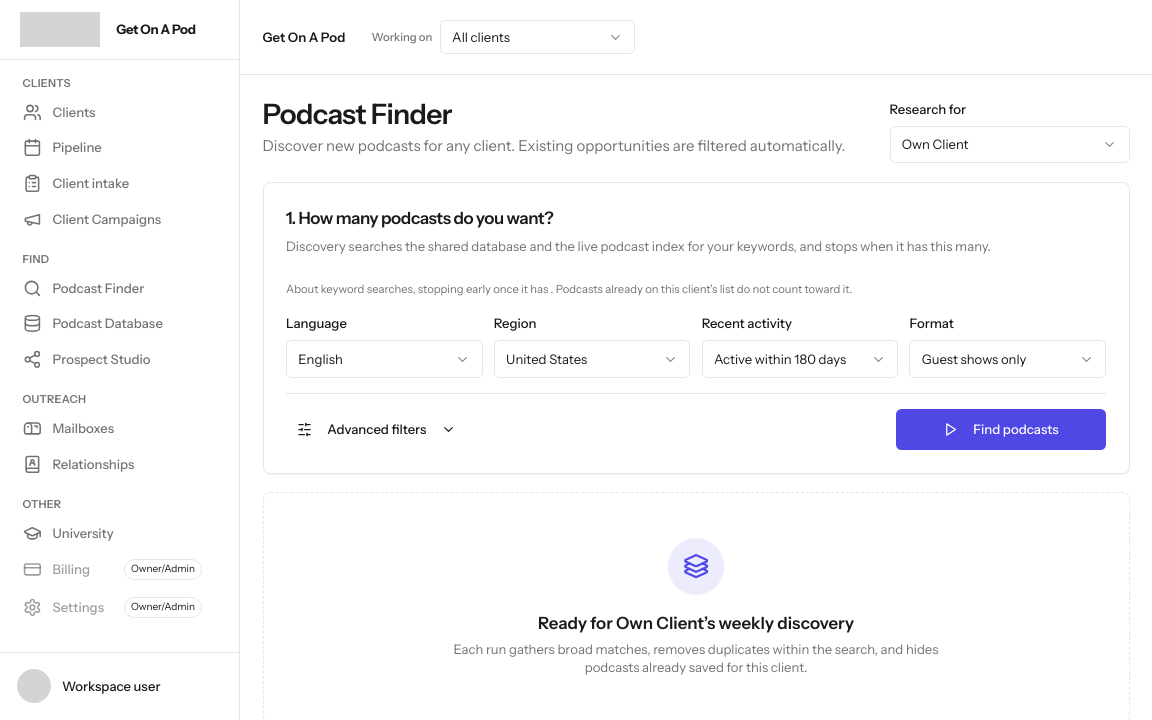
it: PodcastFinder › lets the user switch between every active client in the workspace
The width and height of the screenshot is (1152, 720).
Expected: the heading "Ready for Own Client’s weekly discovery" is shown, [538,610,854,636]
Click the dropdown named "Research for": {"x": 1010, "y": 144} [890,126,1130,163]
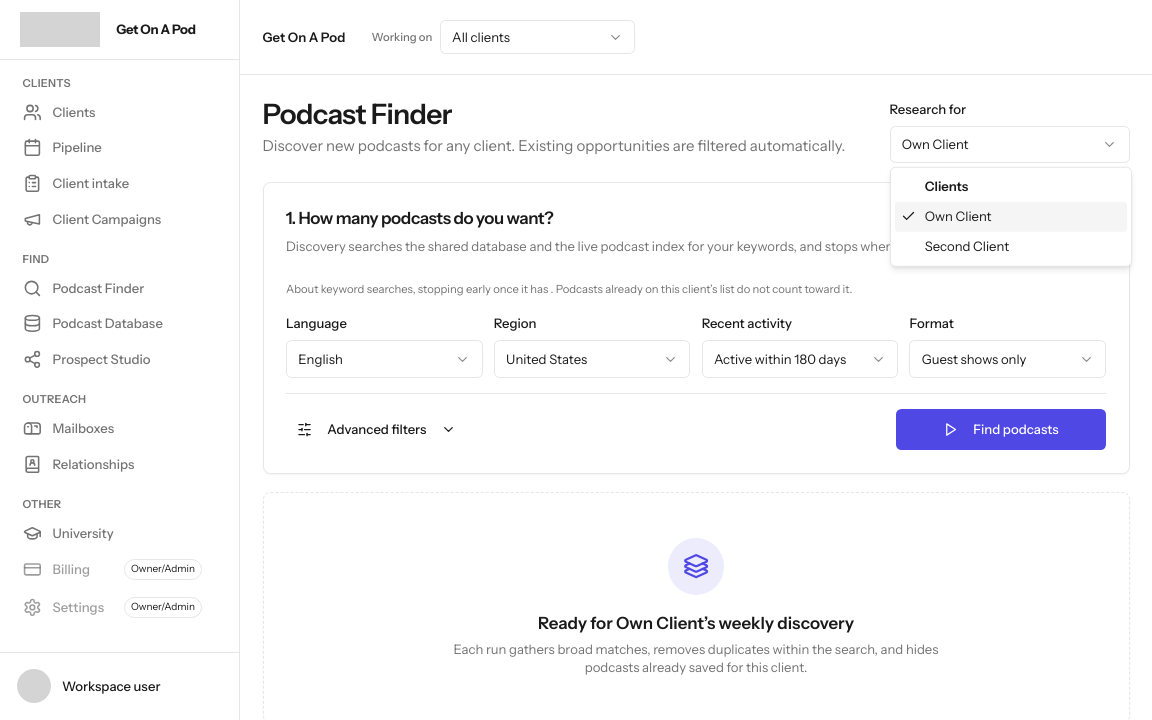
Click the option "Second Client": {"x": 967, "y": 246} [925,238,1009,254]
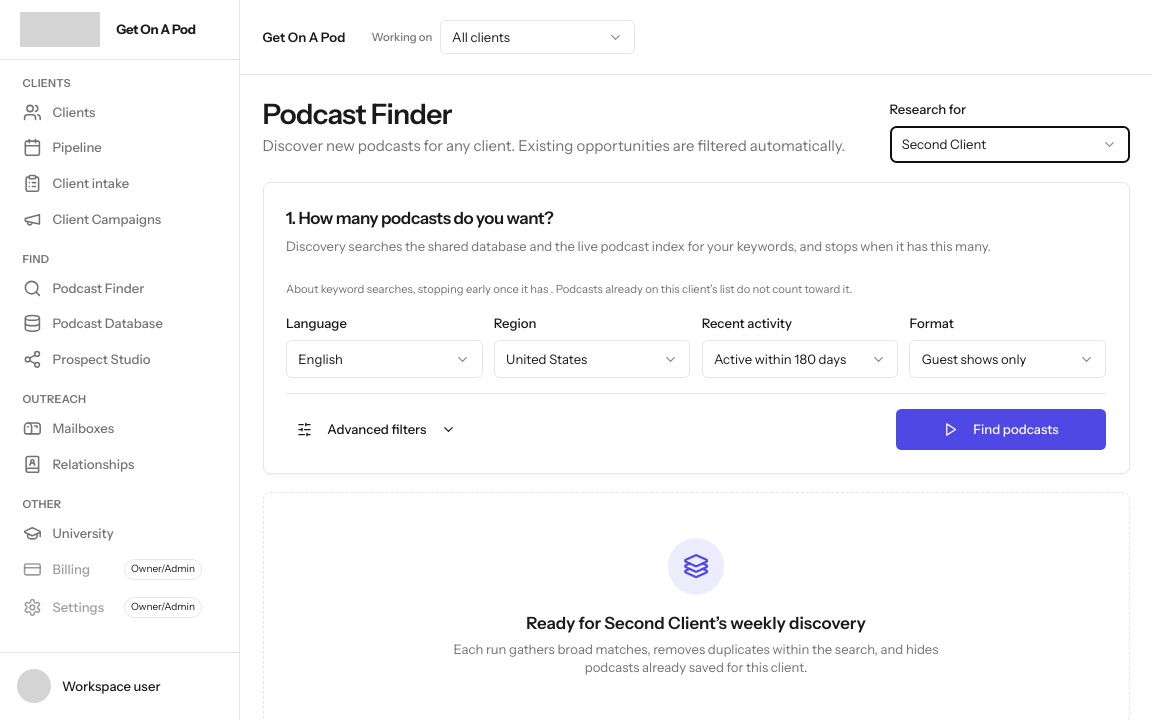
Result: the heading "Ready for Second Client’s weekly discovery" is shown at [526,610,866,636]
